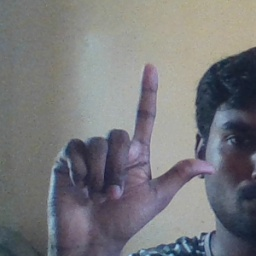L: (43, 62, 219, 250)
